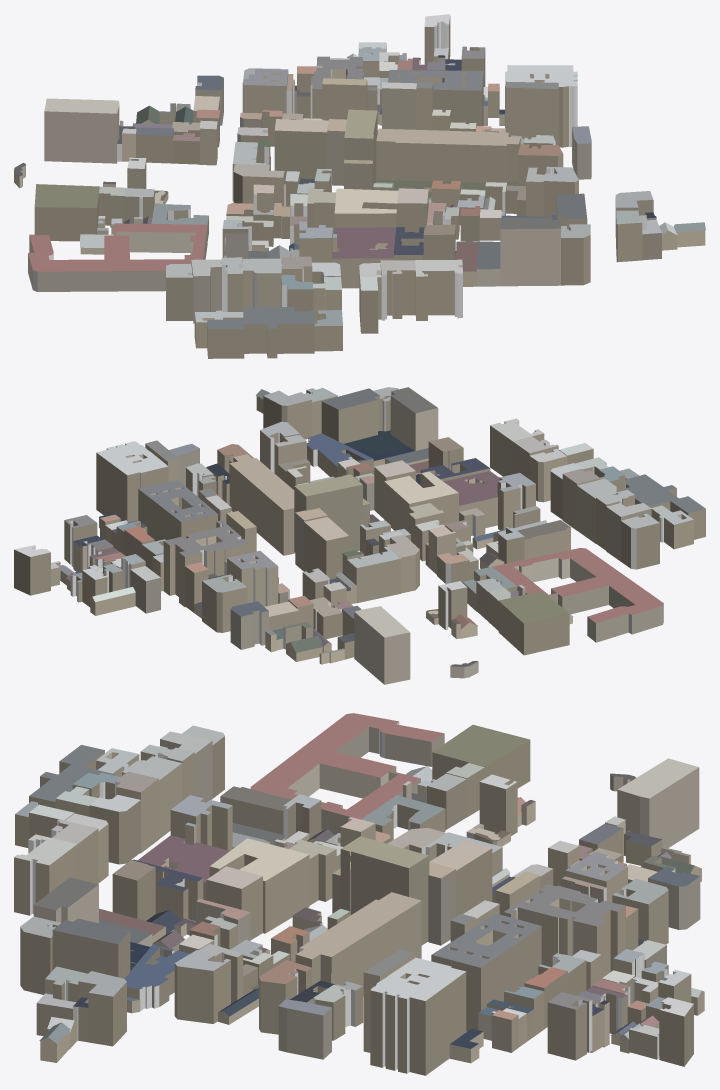
3 views of the same model, one above another, from view 1: azimuth 30°, elevation 25°; view 2: azimuth 150°, elevation 25°; view 3: azimuth 270°, elevation 25° (orthographic). The views are drawn at different scales.
Parts seen in each view (by area): view 1: tuile; view 2: tuile; view 3: tuile.
Boxes of the visible parts, <box> form: tuile: <box>14,14,705,358</box>; tuile: <box>14,387,705,684</box>; tuile: <box>14,713,704,1075</box>.
Size of the model in its own units: 316 by 40.92 by 270.
